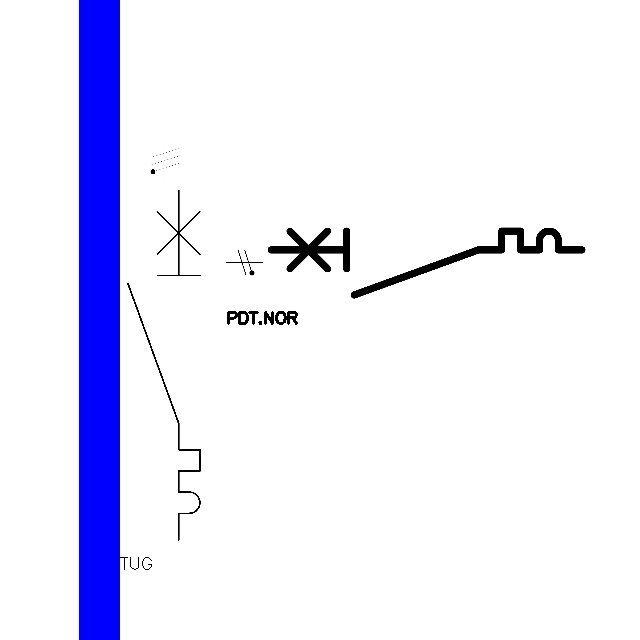interruptor_termomagnetico: (119, 181, 209, 549), (263, 223, 590, 303)
